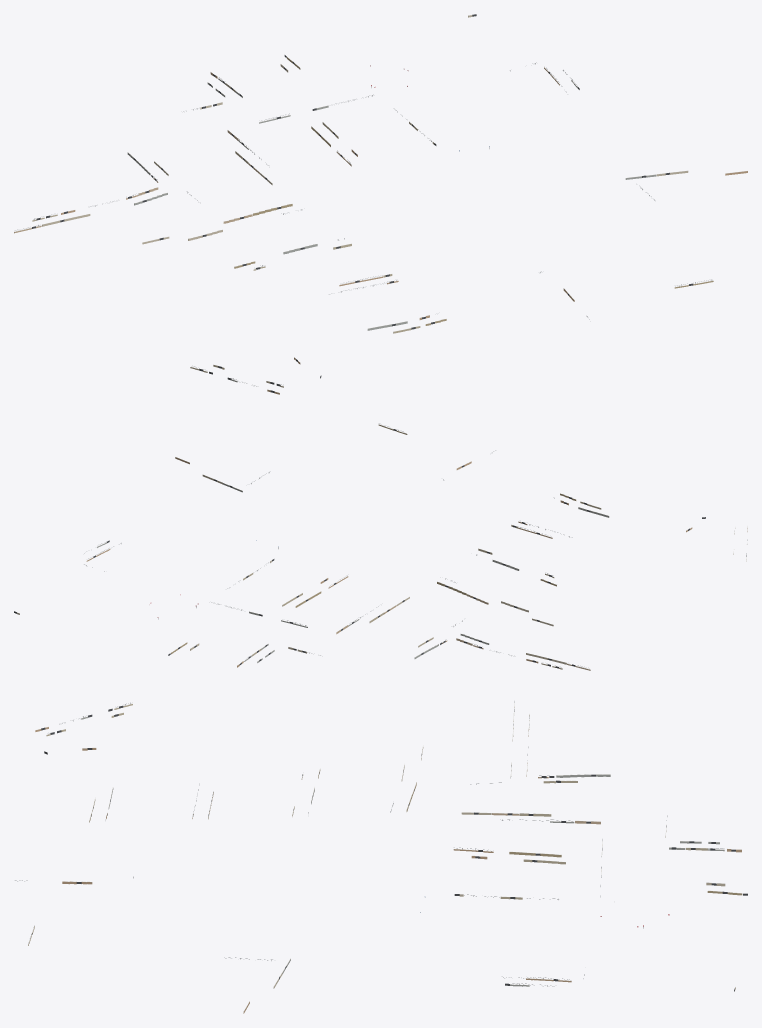
3 views of the same model, one above another, from view 1: azimuth 30°, elevation 25°; view 2: azimuth 150°, elevation 25°; view 3: azimuth 270°, elevation 25° (orthographic). The views are drawn at different scales.
Parts seen in each view (by area): view 1: nd_st_m14_m4_lod0; view 2: nd_st_m14_m4_lod0; view 3: nd_st_m14_m4_lod0.
Part boxes in pixels (x1,y1,x2,y2): nd_st_m14_m4_lod0: [14, 14, 747, 394]; nd_st_m14_m4_lod0: [14, 423, 747, 670]; nd_st_m14_m4_lod0: [15, 701, 747, 1013].
Size of what is drawn, in the model's own units: 517 by 18.45 by 504.
